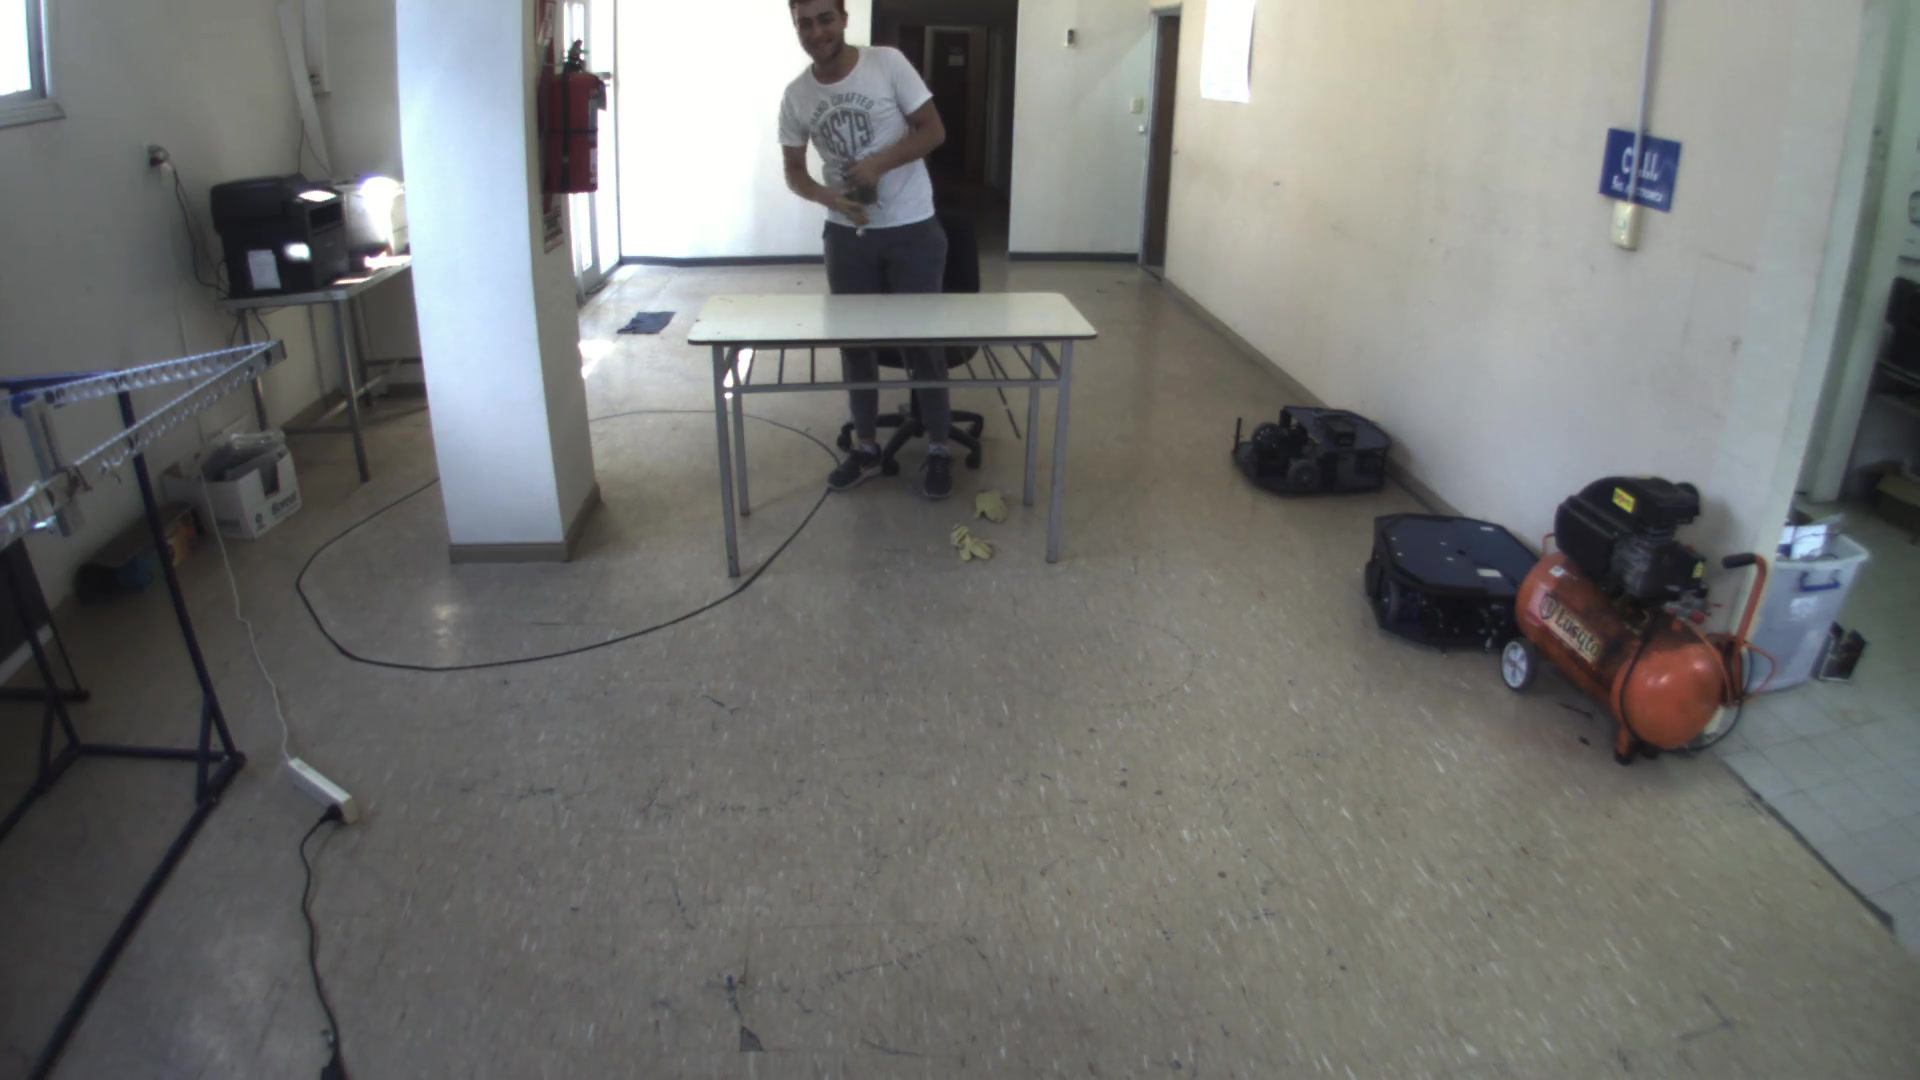hand: (812, 170, 872, 227), (831, 152, 885, 195)
